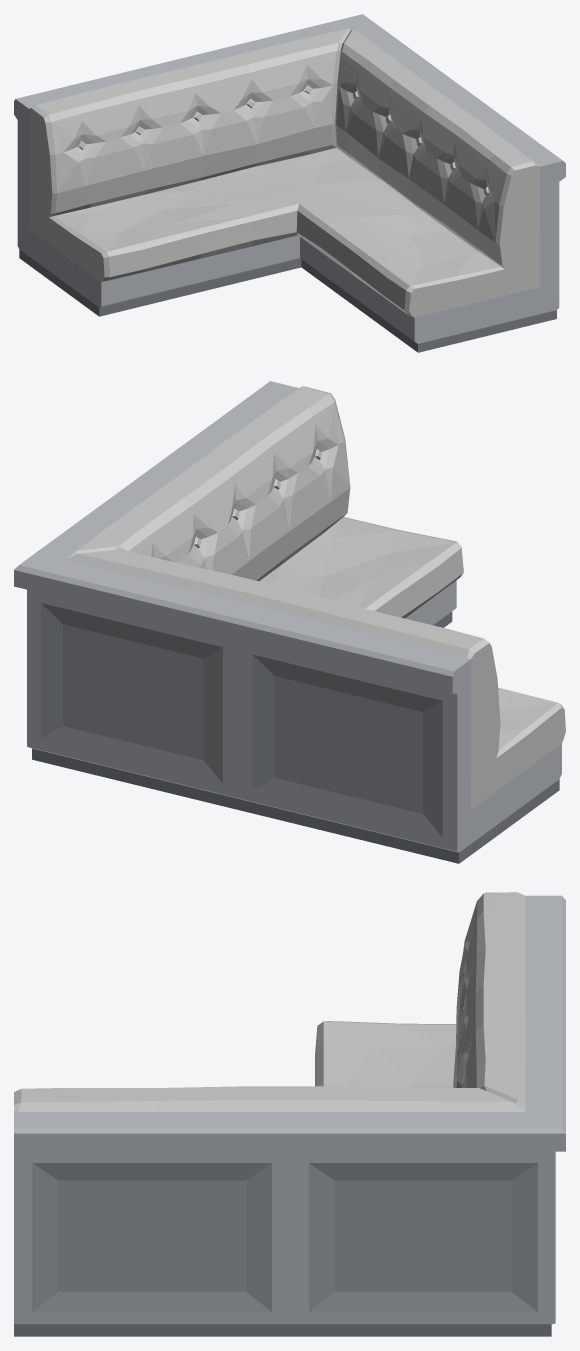
Rendered from SM_Prop_Sofa_03_Corner_01.fbx.
3 views of the same model, one above another, from view 1: azimuth 30°, elevation 25°; view 2: azimuth 150°, elevation 25°; view 3: azimuth 270°, elevation 25° (orthographic). The views are drawn at different scales.
Visible parts, largest first — view 1: SM_Prop_Sofa_03_Corner_01; view 2: SM_Prop_Sofa_03_Corner_01; view 3: SM_Prop_Sofa_03_Corner_01.
Boxes of the visible parts, x1=… form: SM_Prop_Sofa_03_Corner_01: x1=14, y1=14, x2=565, y2=352; SM_Prop_Sofa_03_Corner_01: x1=14, y1=381, x2=565, y2=863; SM_Prop_Sofa_03_Corner_01: x1=14, y1=892, x2=565, y2=1336.
Bounding box in the file's own units: 250 × 111 × 250.
